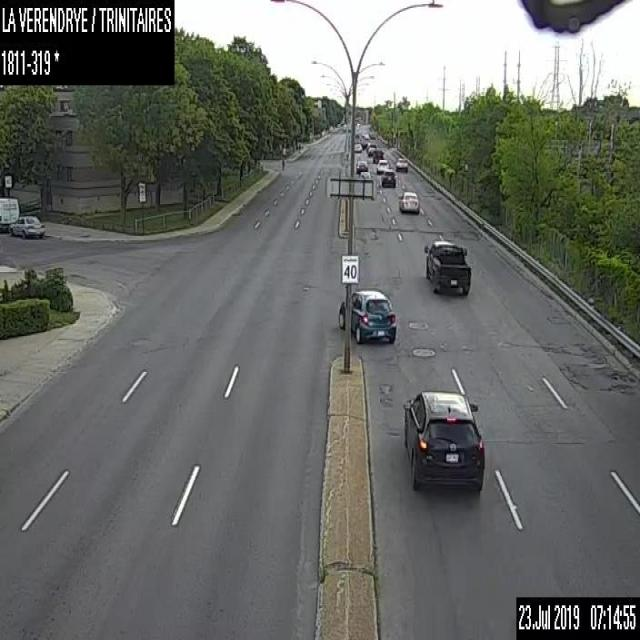pedestrian: (281, 156, 284, 169)
vehicle: (401, 388, 484, 492), (338, 286, 397, 346), (423, 239, 472, 292), (9, 215, 45, 237), (0, 196, 19, 231), (398, 189, 419, 212), (381, 168, 395, 187), (376, 158, 389, 173), (396, 156, 408, 171), (355, 160, 367, 172), (372, 149, 383, 161), (366, 141, 376, 151), (360, 170, 372, 178), (354, 142, 361, 152), (368, 146, 375, 154)
